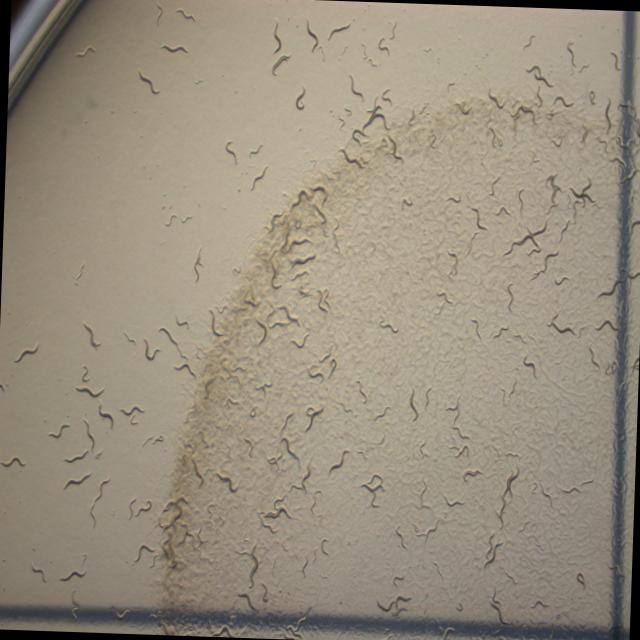filarid: (64, 419, 94, 463), (444, 395, 468, 439), (89, 478, 108, 515), (281, 436, 301, 467), (263, 497, 291, 517), (13, 342, 39, 361), (434, 290, 453, 316), (160, 327, 180, 351), (290, 189, 311, 210), (64, 472, 91, 488), (330, 448, 349, 470), (313, 203, 325, 235), (522, 351, 536, 377), (287, 236, 313, 250), (84, 324, 99, 348), (307, 406, 323, 428), (75, 386, 104, 398), (310, 183, 327, 203), (470, 317, 482, 342), (408, 390, 418, 420), (174, 362, 195, 376), (48, 423, 67, 438), (145, 339, 159, 359), (447, 250, 457, 278), (119, 404, 144, 415), (0, 455, 25, 466), (60, 569, 85, 580), (31, 563, 46, 581), (98, 404, 113, 422), (492, 325, 510, 338), (281, 411, 293, 430), (302, 462, 311, 486), (510, 331, 526, 343), (194, 251, 201, 270), (424, 388, 430, 408), (509, 377, 515, 396), (300, 255, 313, 263), (82, 365, 88, 382), (506, 283, 511, 294), (154, 435, 163, 441), (294, 221, 300, 229), (177, 321, 187, 325), (280, 246, 286, 252), (83, 552, 87, 560), (196, 273, 199, 278), (515, 366, 518, 371), (502, 394, 504, 401), (456, 302, 459, 306)
